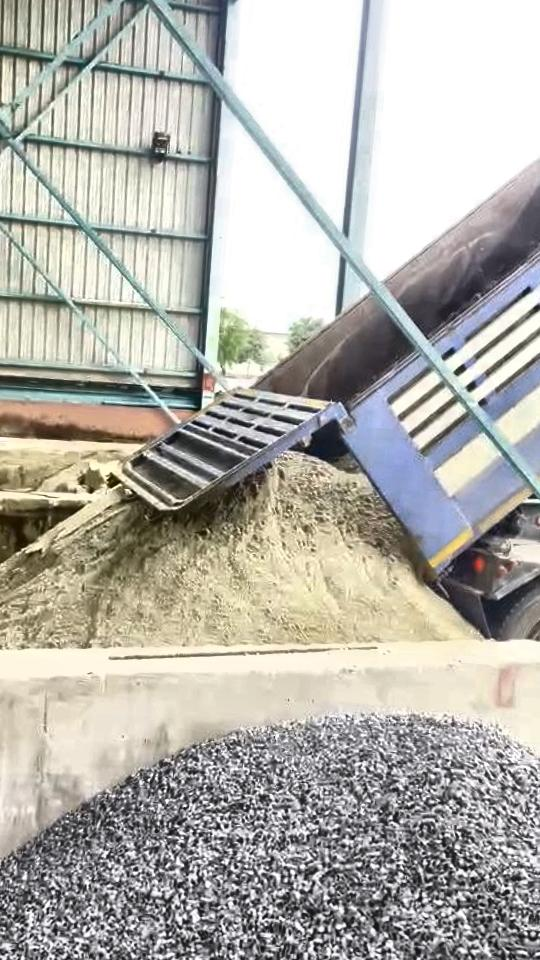gravel: (0, 716, 540, 960)
sand: (0, 455, 478, 651), (37, 486, 130, 551), (38, 459, 120, 494)
